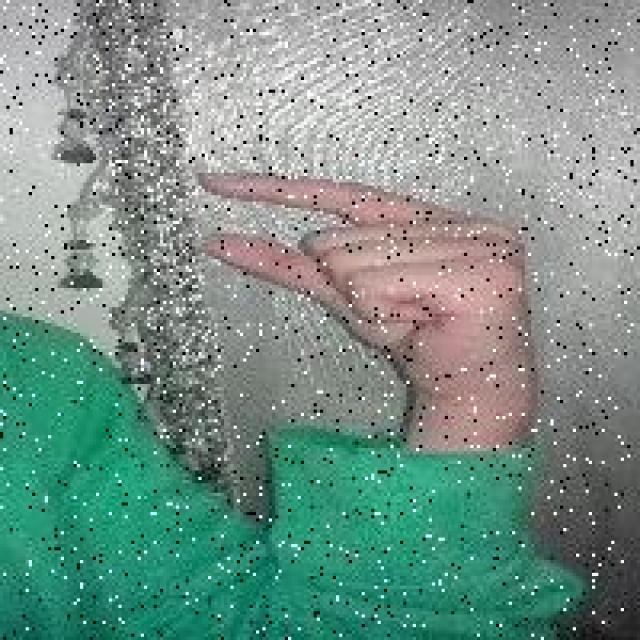G: (194, 166, 546, 404)
